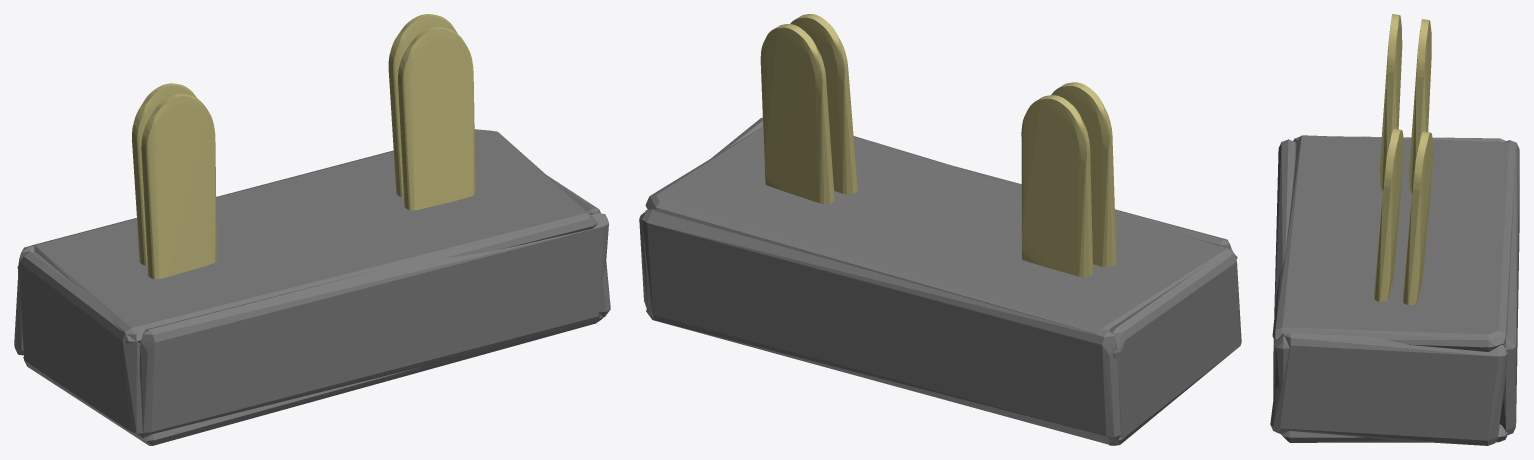
File: switch-base.glb
3 renders of one model, left to right at view 1: azimuth 30°, elevation 25°; view 2: azimuth 150°, elevation 25°; view 3: azimuth 270°, elevation 25°, orthographic. The views are drawn at different scales.
Parts seen in each view (by area): view 1: Object_4.002; view 2: Object_4.002; view 3: Object_4.002.
Boxes of the visible parts, x1,y1,x2,y2 form: Object_4.002: (14,14,610,445); Object_4.002: (639,14,1241,445); Object_4.002: (1270,14,1519,445).
Bounding box in the file's own units: 0.2238 × 0.1314 × 0.1067.
